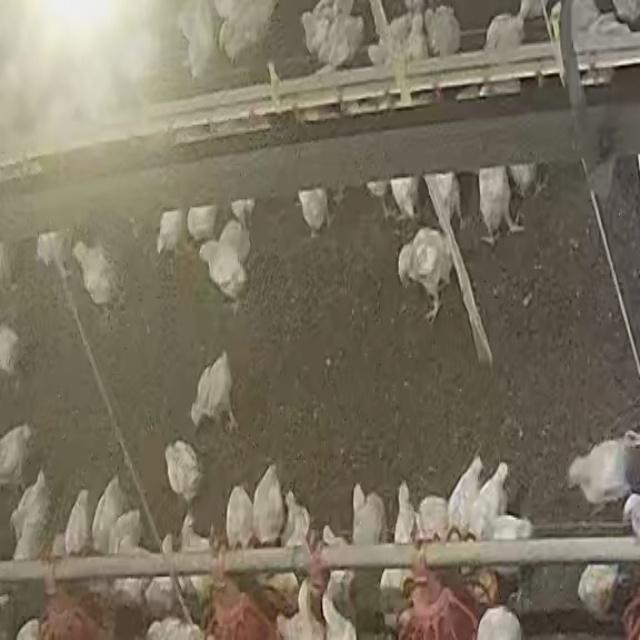chicken: (391, 225, 455, 318), (185, 351, 243, 439), (569, 433, 633, 509), (193, 241, 256, 305), (73, 242, 126, 316), (159, 435, 208, 505), (251, 461, 286, 549), (475, 460, 513, 541)
